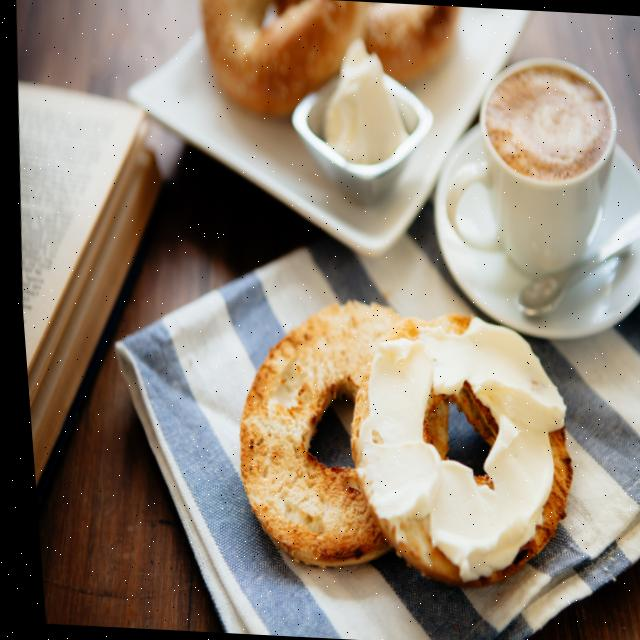Bagel: (346, 317, 559, 583), (233, 302, 395, 566), (202, 0, 367, 115)
